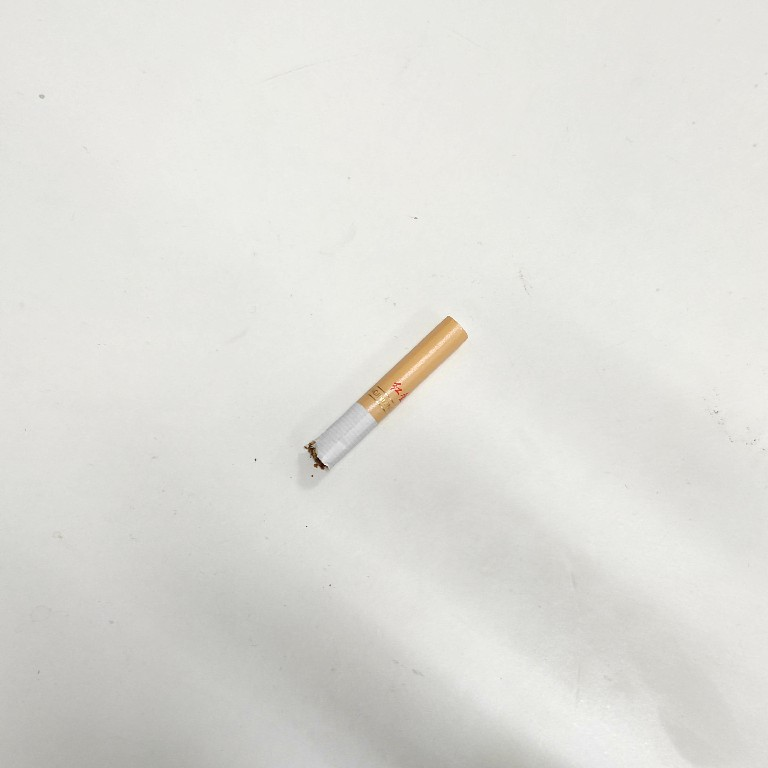cigarette: (302, 310, 471, 473)
